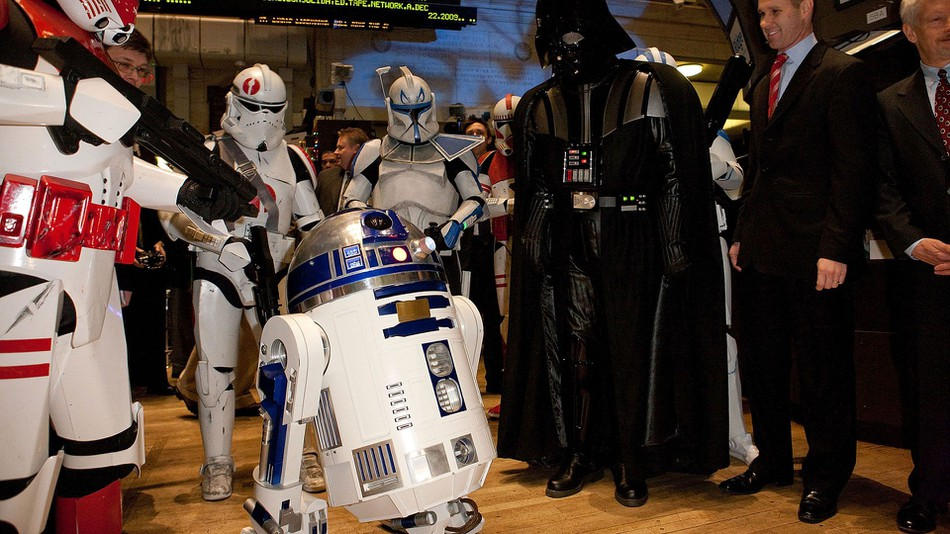r2d2: (239, 199, 498, 534)
